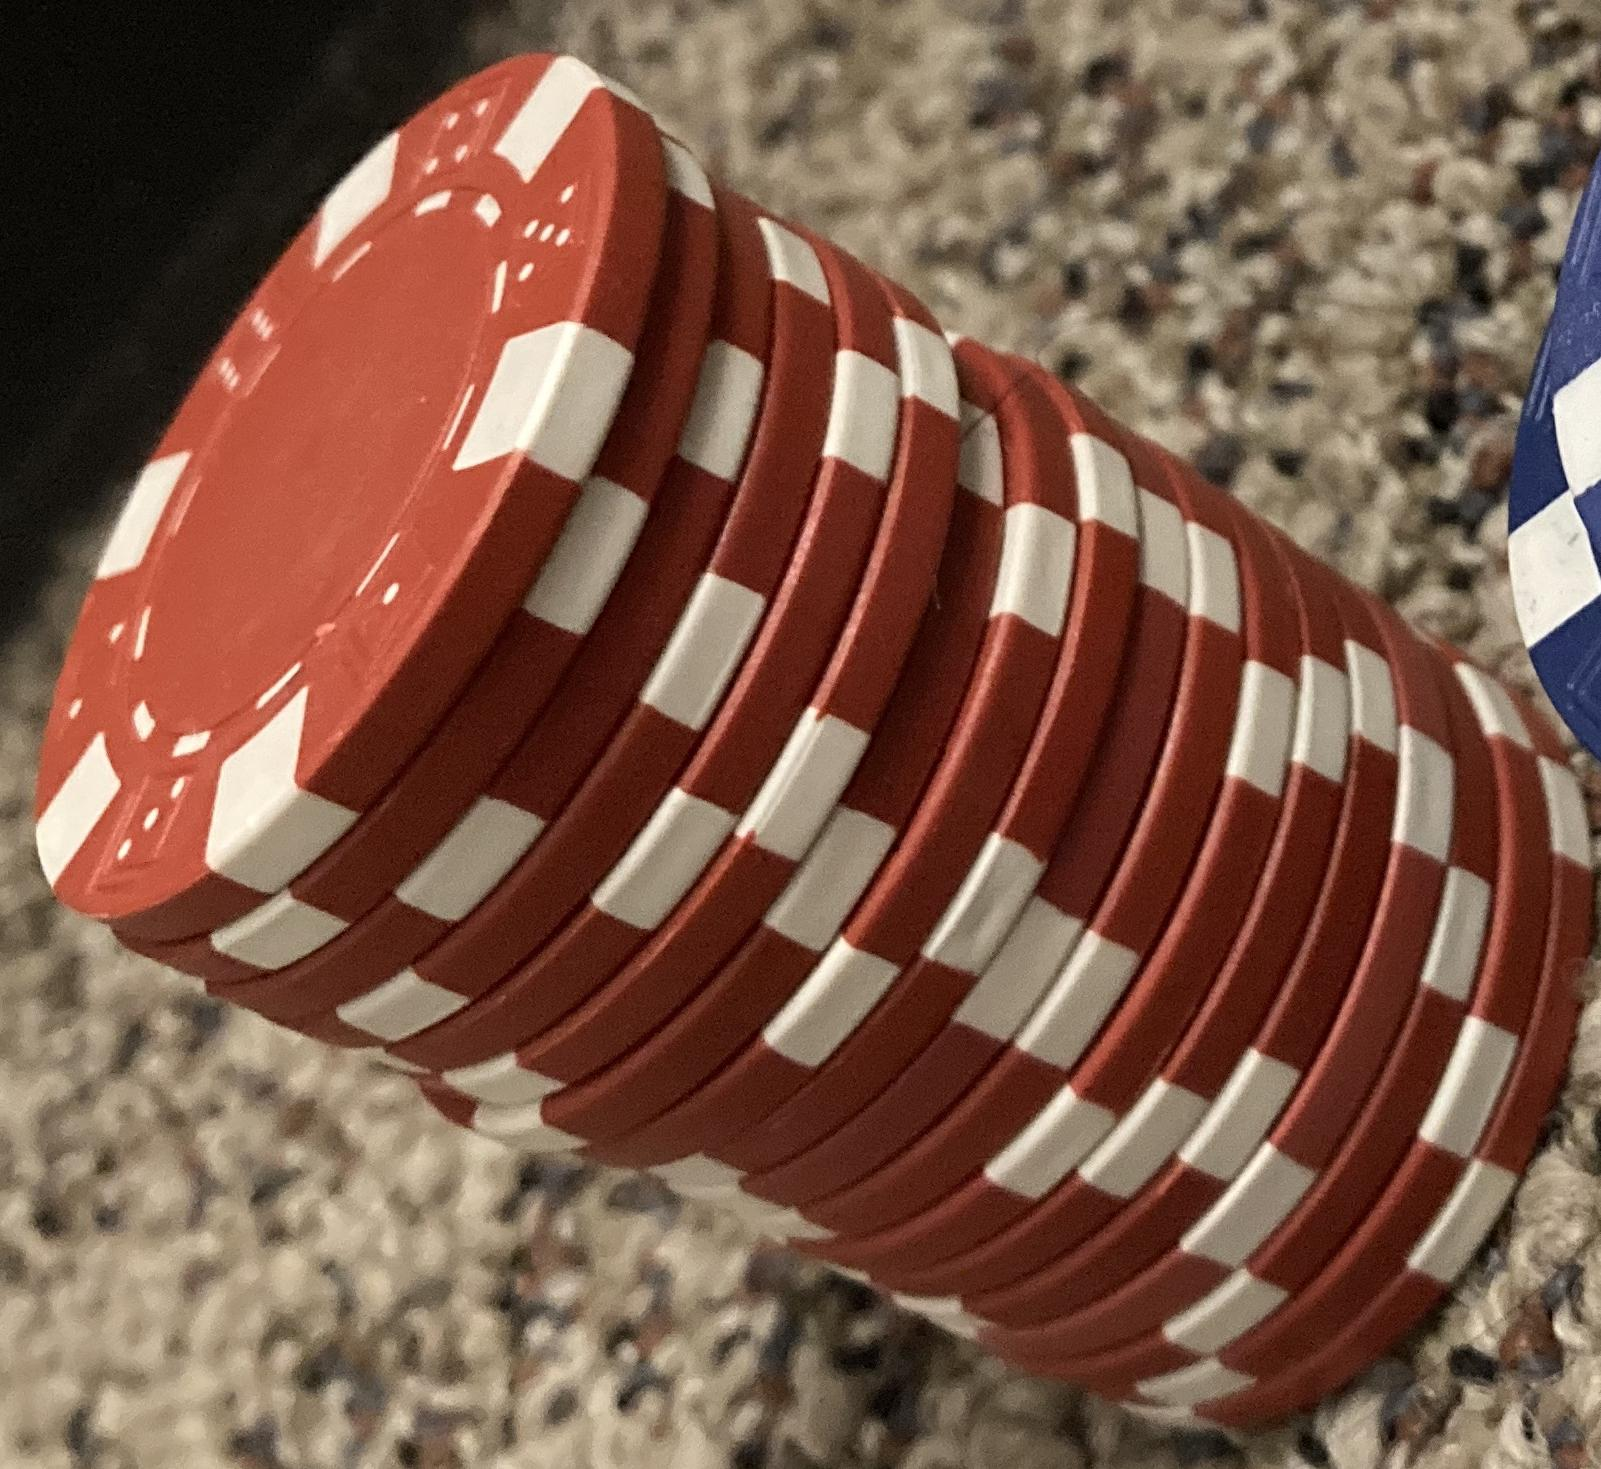Chip: (1, 1, 1601, 1469)
